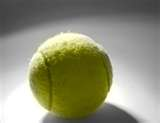tennis ball: (27, 32, 116, 118)
